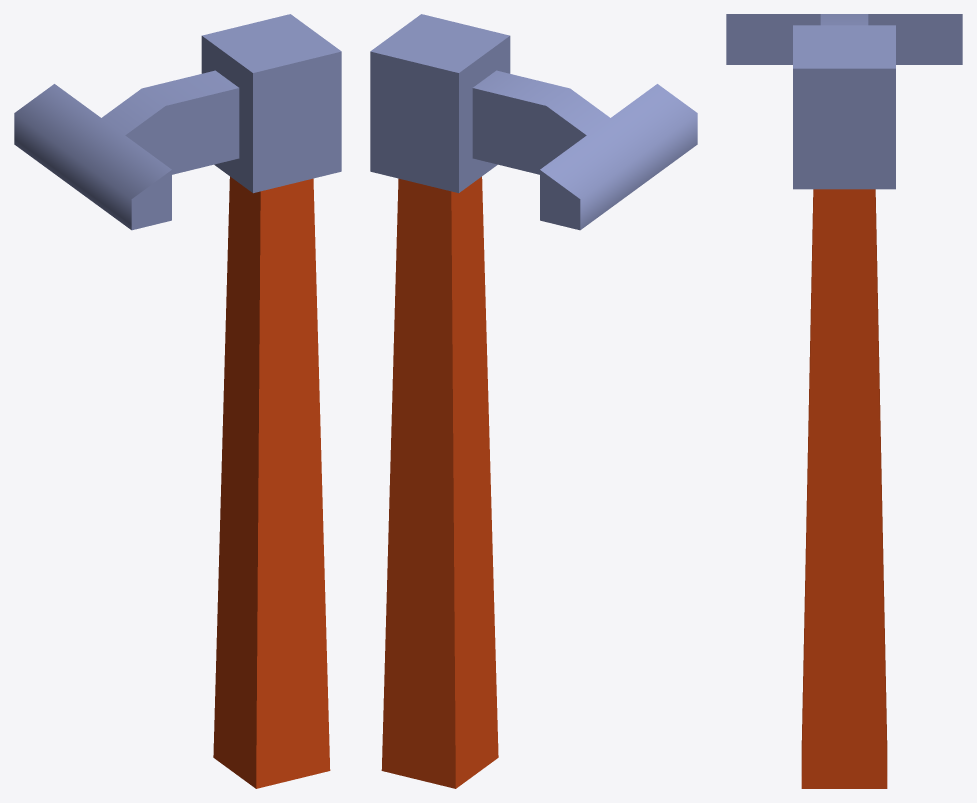
The model's file is toolHoe.obj.
The picture shows the model from 3 angles, left to right: view 1: azimuth 30°, elevation 25°; view 2: azimuth 150°, elevation 25°; view 3: azimuth 270°, elevation 25°; orthographic projection.
Parts seen in each view (by area): view 1: toolHoe; view 2: toolHoe; view 3: toolHoe.
Boxes of the visible parts, box(x1,y1,x2,y2) form: toolHoe: box(14, 14, 341, 788); toolHoe: box(370, 14, 697, 788); toolHoe: box(726, 14, 962, 788).
Size of the model in its own units: 0.0848 by 0.24 by 0.0709.
